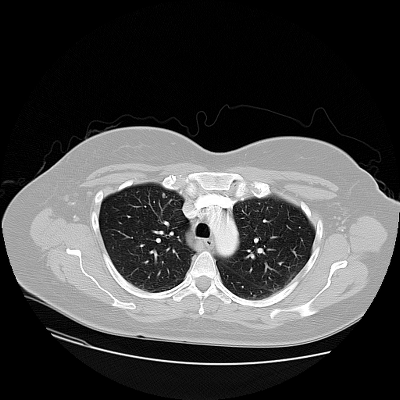nodule: (161, 193, 165, 197)
